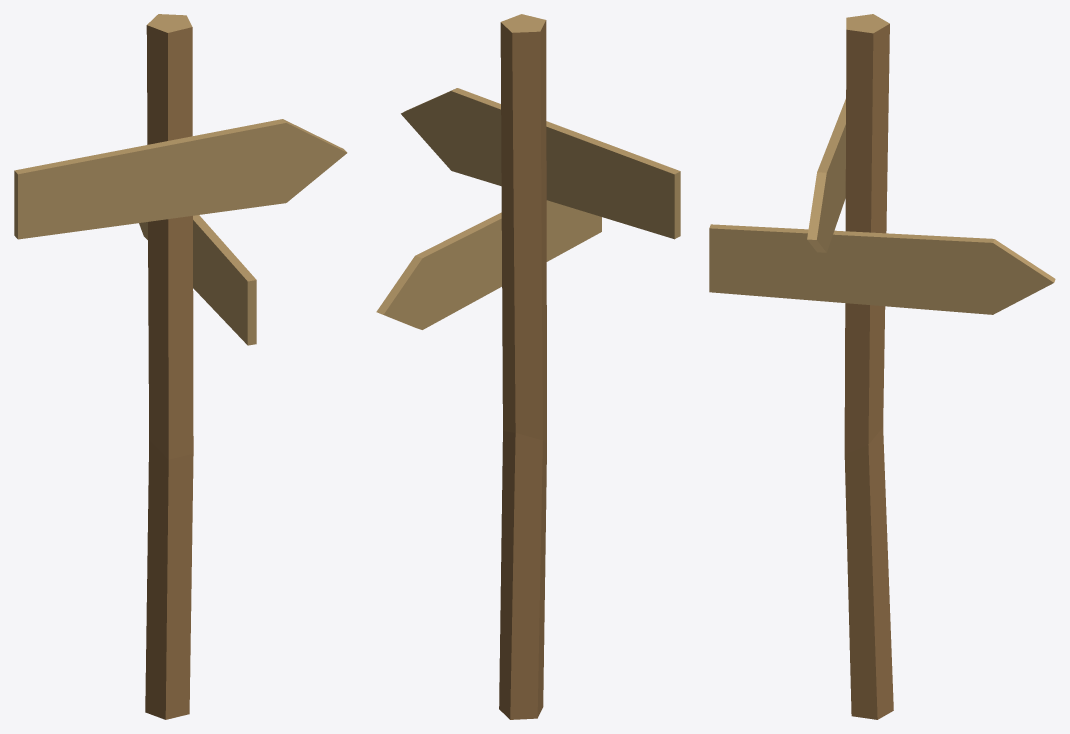
Rendered from sign_01.fbx.
The picture shows the model from 3 angles, left to right: view 1: azimuth 30°, elevation 25°; view 2: azimuth 150°, elevation 25°; view 3: azimuth 270°, elevation 25°; orthographic projection.
Parts seen in each view (by area): view 1: sign_01; view 2: sign_01; view 3: sign_01.
Boxes of the visible parts, x1,y1,x2,y2 form: sign_01: (14,14,347,719); sign_01: (376,14,680,719); sign_01: (709,14,1055,719).
Bounding box in the file's own units: 125 × 271 × 124.
